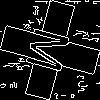M: (25, 25, 80, 77)
